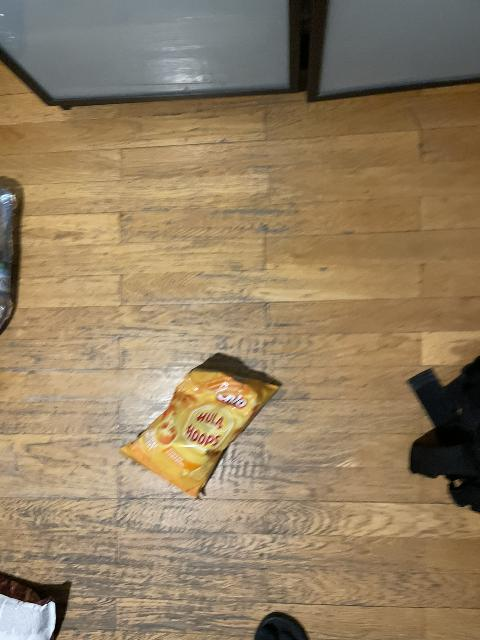Chio Hula Hoops Cheese 70g: (120, 357, 287, 499)
